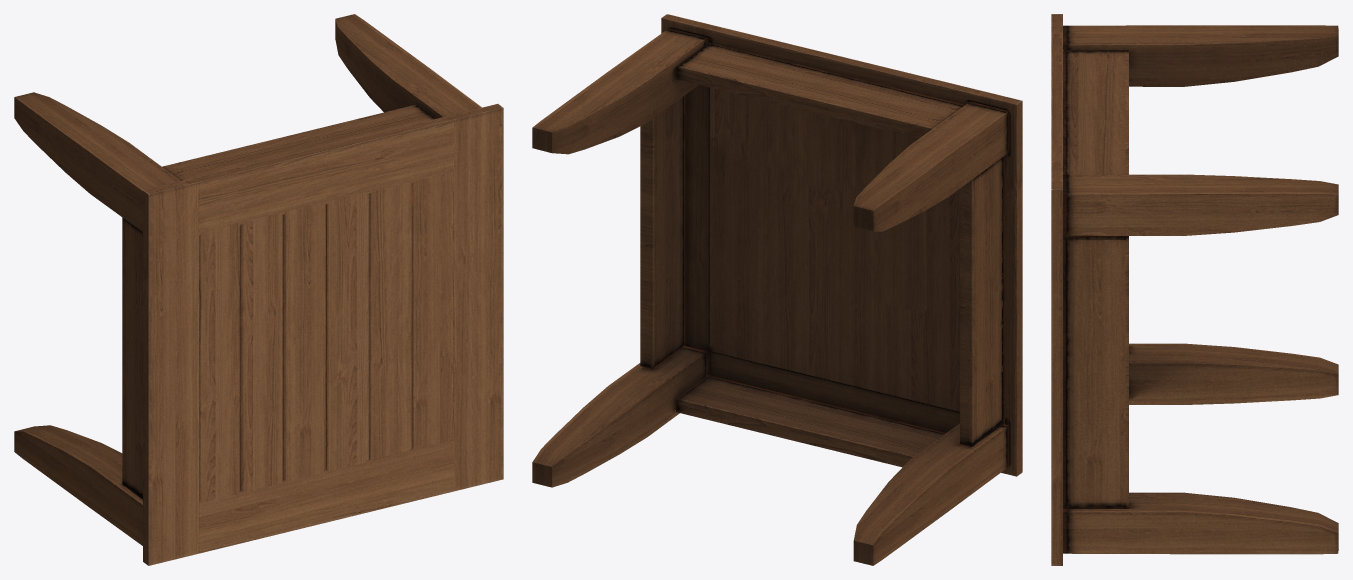
File: HSM0017.obj
The picture shows the model from 3 angles, left to right: view 1: azimuth 30°, elevation 25°; view 2: azimuth 150°, elevation 25°; view 3: azimuth 270°, elevation 25°; orthographic projection.
Parts seen in each view (by area): view 1: end_table__end_table_; view 2: end_table__end_table_; view 3: end_table__end_table_.
Boxes of the visible parts, x1=… form: end_table__end_table_: x1=14, y1=14, x2=503, y2=565; end_table__end_table_: x1=532, y1=14, x2=1022, y2=565; end_table__end_table_: x1=1051, y1=14, x2=1338, y2=565.
Bounding box in the file's own units: 65.75 × 65.7 × 45.45.
